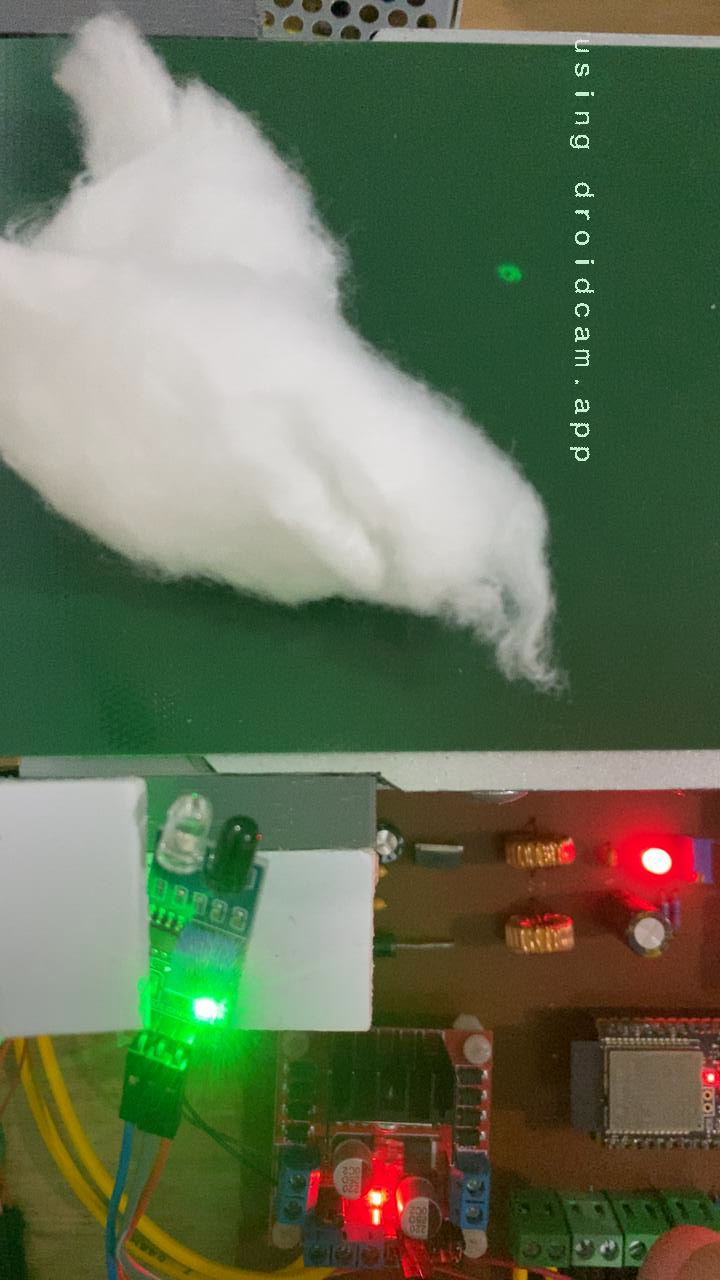cotton: (0, 41, 564, 696)
